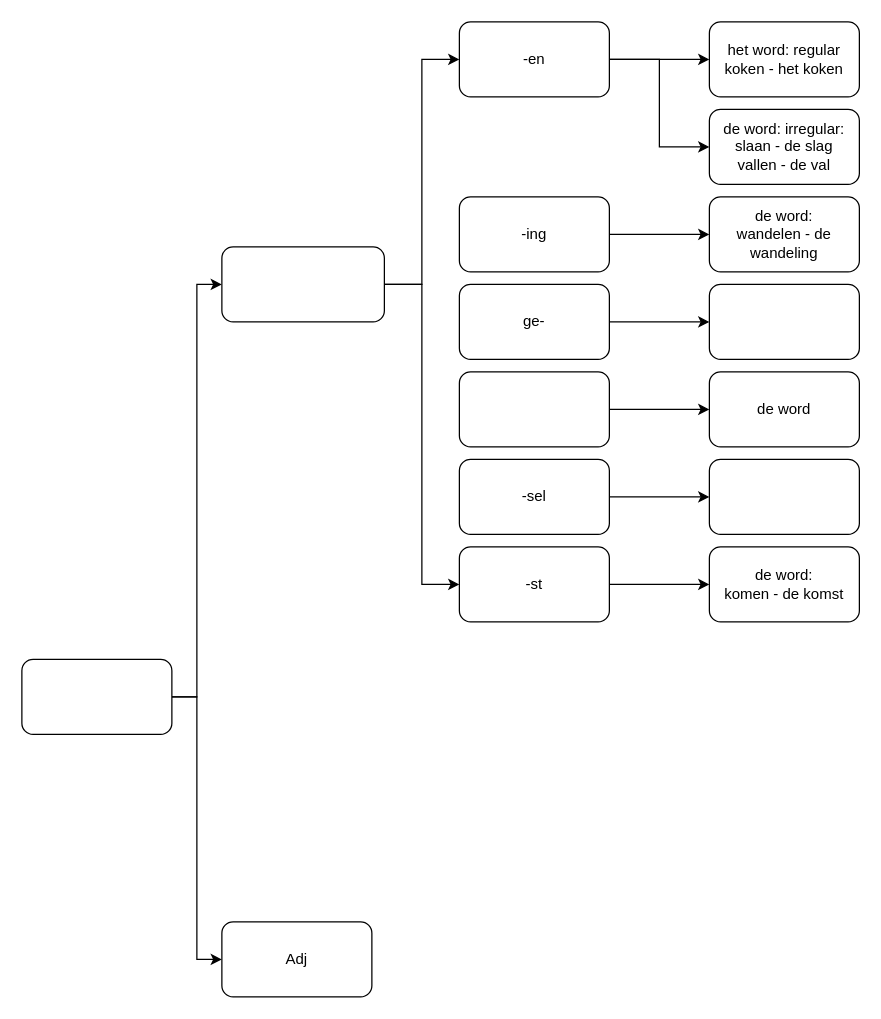
Image size: 881x1019. Some labels were removed from this diagram. The shapes that lost their labels are listed below. From the top down, each one's box as (x1, y1, x2, y2) in pixels, then its label:
(221, 246, 384, 322): Verb
(708, 283, 859, 359): praten - het gepraat
(458, 371, 609, 447): -atie, -eren, -age
(708, 458, 859, 534): dek - deksel
(21, 658, 172, 734): Noun
